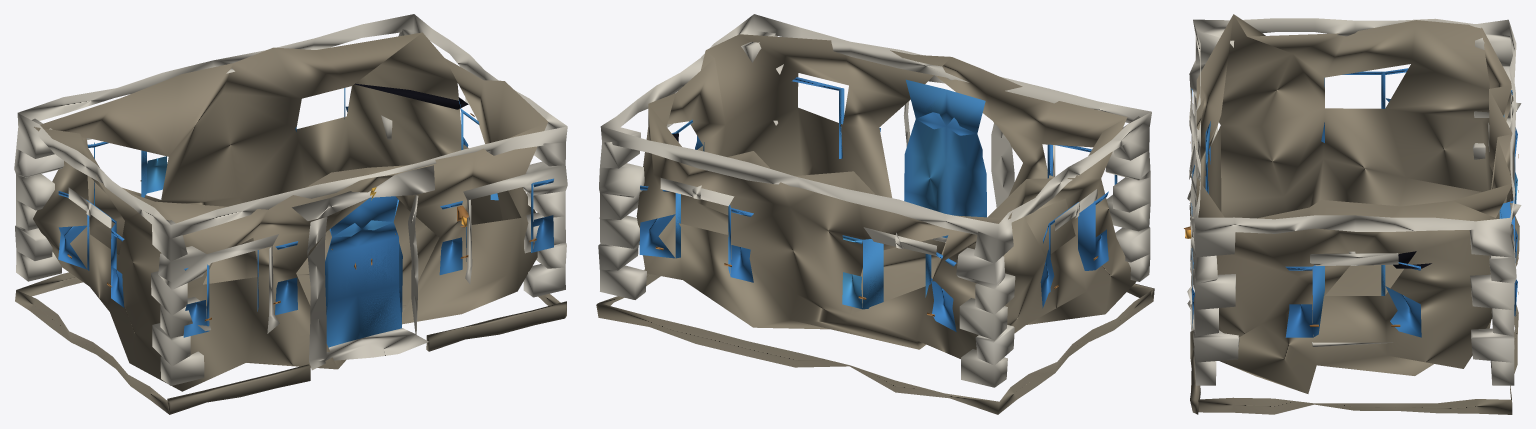
Rendered from home_villa-walls_t1_stone.glb.
3 views of the same model, side by side, from view 1: azimuth 30°, elevation 25°; view 2: azimuth 150°, elevation 25°; view 3: azimuth 270°, elevation 25° (orthographic). The views are drawn at different scales.
Visible parts, largest first — view 1: wall, marble, wood, base, interior; view 2: wall, marble, wood, base; view 3: wall, marble, wood, base.
Boxes of the visible parts, x1=… form: wall: x1=33, y1=32, x2=547, y2=391; marble: x1=14, y1=14, x2=567, y2=385; wood: x1=58, y1=88, x2=553, y2=347; base: x1=15, y1=272, x2=566, y2=414; interior: x1=354, y1=83, x2=468, y2=109; wall: x1=636, y1=34, x2=1136, y2=358; marble: x1=598, y1=14, x2=1151, y2=387; wood: x1=639, y1=77, x2=1117, y2=331; base: x1=596, y1=269, x2=1154, y2=414; wall: x1=1196, y1=14, x2=1513, y2=393; marble: x1=1187, y1=18, x2=1521, y2=385; wood: x1=1191, y1=68, x2=1517, y2=337; base: x1=1190, y1=202, x2=1519, y2=414.
Size of the model in its own units: 6.46 by 2.99 by 4.49.
